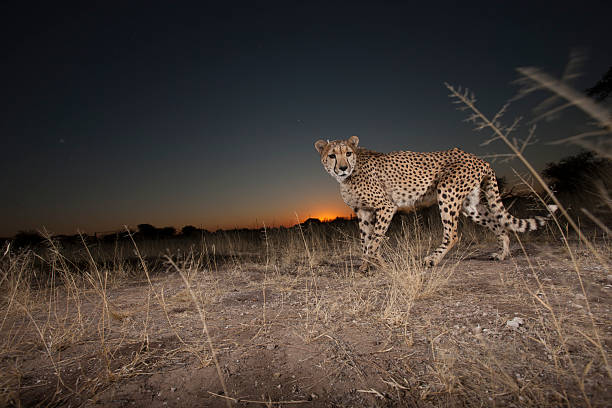cheetah: (304, 131, 366, 185)
